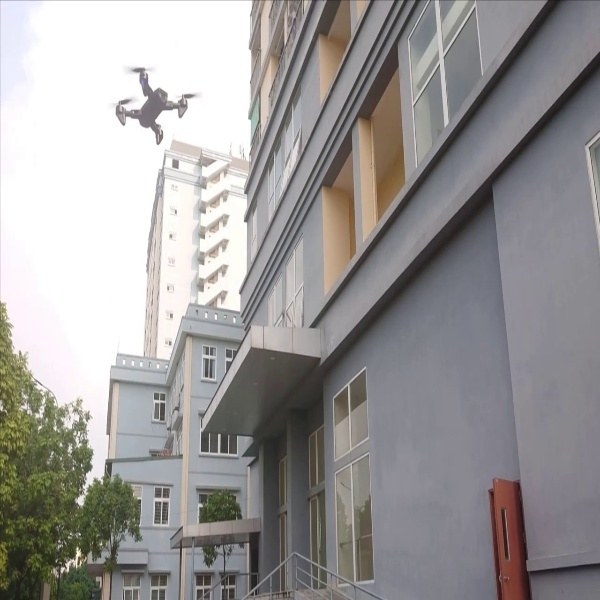drone: (97, 63, 206, 149)
